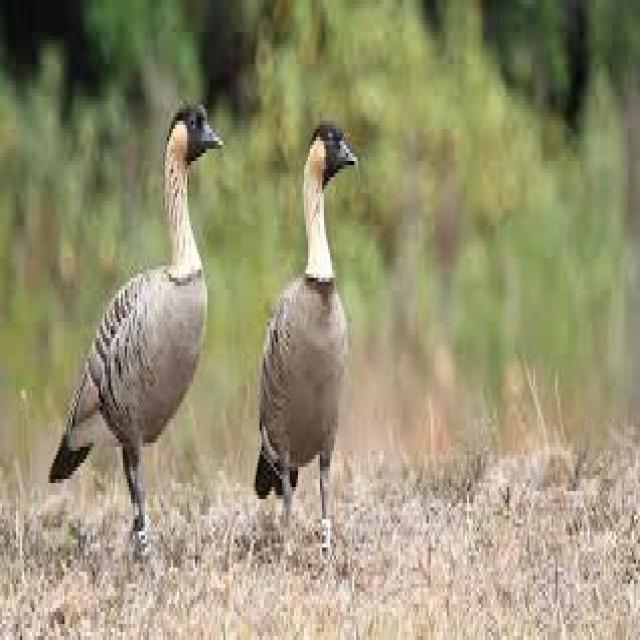Goose: (48, 92, 226, 534), (255, 113, 360, 559)
